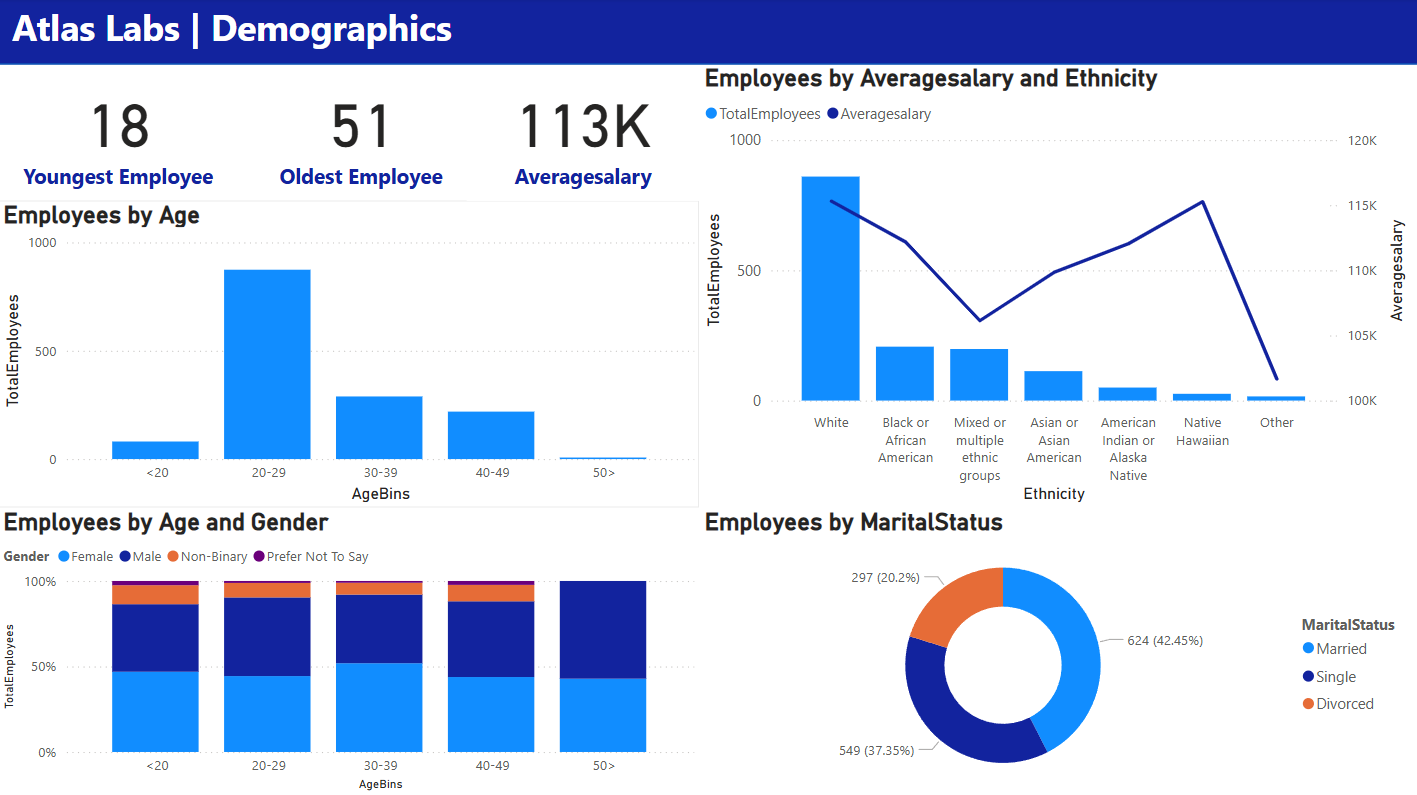

The page's visual inventory and layout, read from the dashboard file:
{"tool":"powerbi","page":{"name":"Demographics","canvas":[1280,720],"ordinal":1},"visuals":[{"type":"card","fields":{"Values":["Min(DimEmployee.Age)"]},"box":[0,60,217.1,122.9],"z":0},{"type":"card","fields":{"Values":["Max(DimEmployee.Age)"]},"box":[217.1,60,220,122.9],"z":1000},{"type":"columnChart","title":"Employees by Age","fields":{"Y":["_Measures.TotalEmployees"],"Category":["DimEmployee.AgeBins"]},"box":[0,182.9,632.9,277.1],"z":2000},{"type":"hundredPercentStackedColumnChart","title":"Employees by Age and Gender","fields":{"Category":["DimEmployee.AgeBins"],"Series":["DimEmployee.Gender"],"Y":["_Measures.TotalEmployees"]},"box":[0,460,632.9,260],"z":3000},{"type":"donutChart","title":"Employees by MaritalStatus","fields":{"Category":["DimEmployee.MaritalStatus"],"Y":["_Measures.TotalEmployees"]},"box":[632.9,460,647.1,260],"z":4000},{"type":"card","fields":{"Values":["_Measures.Averagesalary"]},"box":[422.9,60,210,122.9],"z":5000},{"type":"lineStackedColumnComboChart","title":"Employees by Averagesalary and Ethnicity","fields":{"Y":["_Measures.TotalEmployees"],"Category":["DimEmployee.Ethnicity"],"Y2":["_Measures.Averagesalary"]},"box":[632.9,60,641.4,400],"z":6000},{"type":"shape","box":[0,0,1280,60],"z":7000},{"type":"textbox","box":[0,0,434.3,60],"z":8000}]}

Visuals, with their boxes in screenshot pixels (x1, y1, x2, y2), scaled from the page's 1280x720 canvas onto the 1417x795 screenshot:
card - Min(DimEmployee.Age): 0 66 240 202
card - Max(DimEmployee.Age): 240 66 484 202
"Employees by Age" columnChart: 0 202 701 508
"Employees by Age and Gender" hundredPercentStackedColumnChart: 0 508 701 794
"Employees by MaritalStatus" donutChart: 701 508 1416 794
card - _Measures.Averagesalary: 468 66 701 202
"Employees by Averagesalary and Ethnicity" lineStackedColumnComboChart: 701 66 1411 508
shape: 0 0 1416 66
textbox: 0 0 481 66
